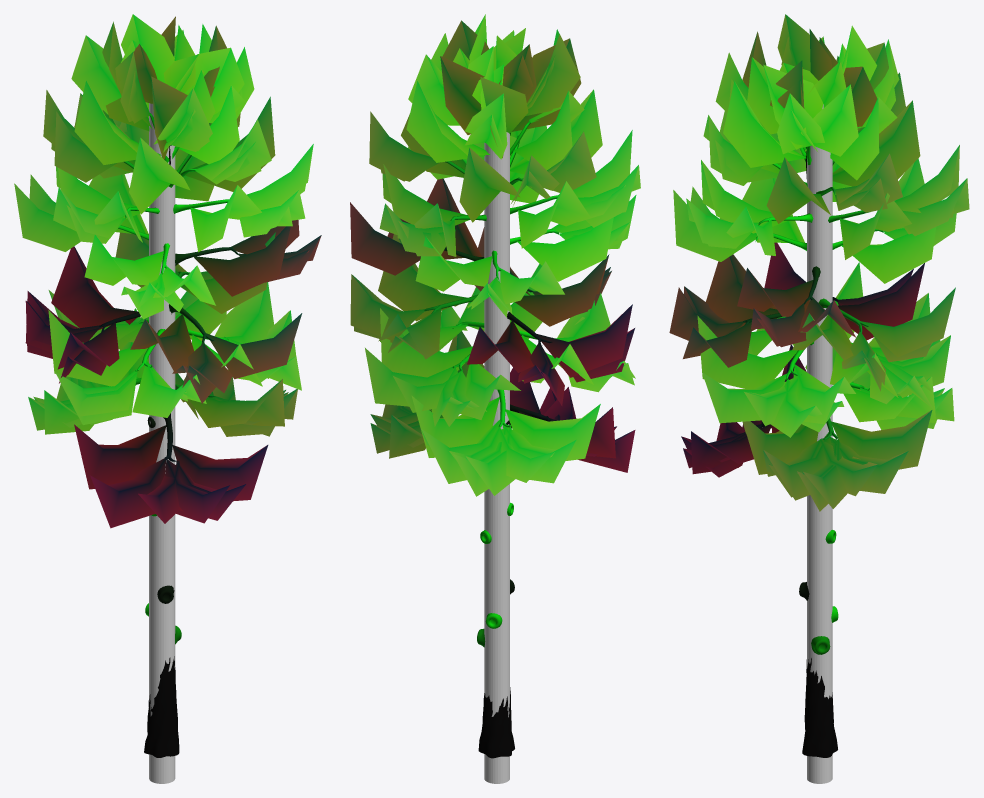
The model's file is PF_Tree_Pine.glb.
The picture shows the model from 3 angles, left to right: view 1: azimuth 30°, elevation 25°; view 2: azimuth 150°, elevation 25°; view 3: azimuth 270°, elevation 25°; orthographic projection.
Parts seen in each view (by area): view 1: SM_Branch, SM_Tree_Pine_01-gcp-wood, SM_Tree_Pine_01; view 2: SM_Branch, SM_Tree_Pine_01-gcp-wood, SM_Tree_Pine_01; view 3: SM_Branch, SM_Tree_Pine_01-gcp-wood, SM_Tree_Pine_01.
Part boxes in pixels (bbox=[...]): SM_Branch: bbox=[14, 14, 321, 528]; SM_Tree_Pine_01-gcp-wood: bbox=[149, 103, 175, 783]; SM_Tree_Pine_01: bbox=[98, 113, 237, 757]; SM_Branch: bbox=[350, 14, 640, 496]; SM_Tree_Pine_01-gcp-wood: bbox=[484, 132, 509, 783]; SM_Tree_Pine_01: bbox=[424, 121, 558, 758]; SM_Branch: bbox=[669, 14, 969, 511]; SM_Tree_Pine_01-gcp-wood: bbox=[807, 104, 832, 783]; SM_Tree_Pine_01: bbox=[742, 146, 883, 757].
Size of the model in its own units: 4.69 by 12.79 by 4.66.
